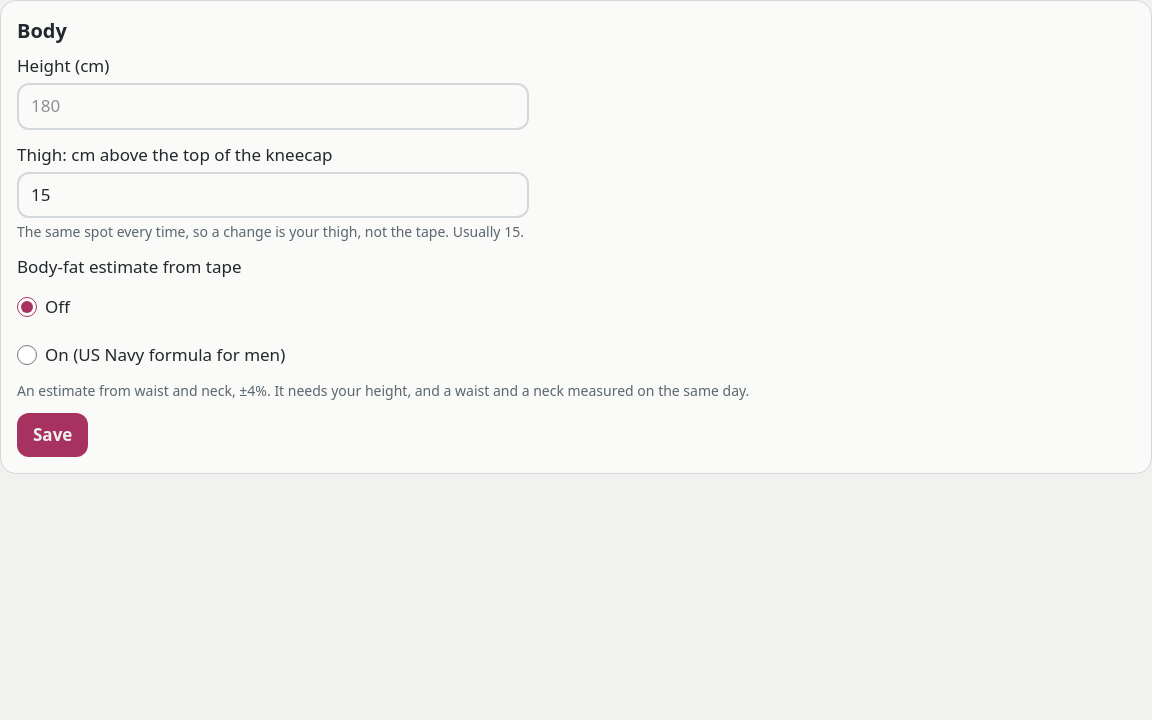
a refused save says why
Step 1. Click the button "Save" → (53, 435), box left=17, top=413, right=88, bottom=457
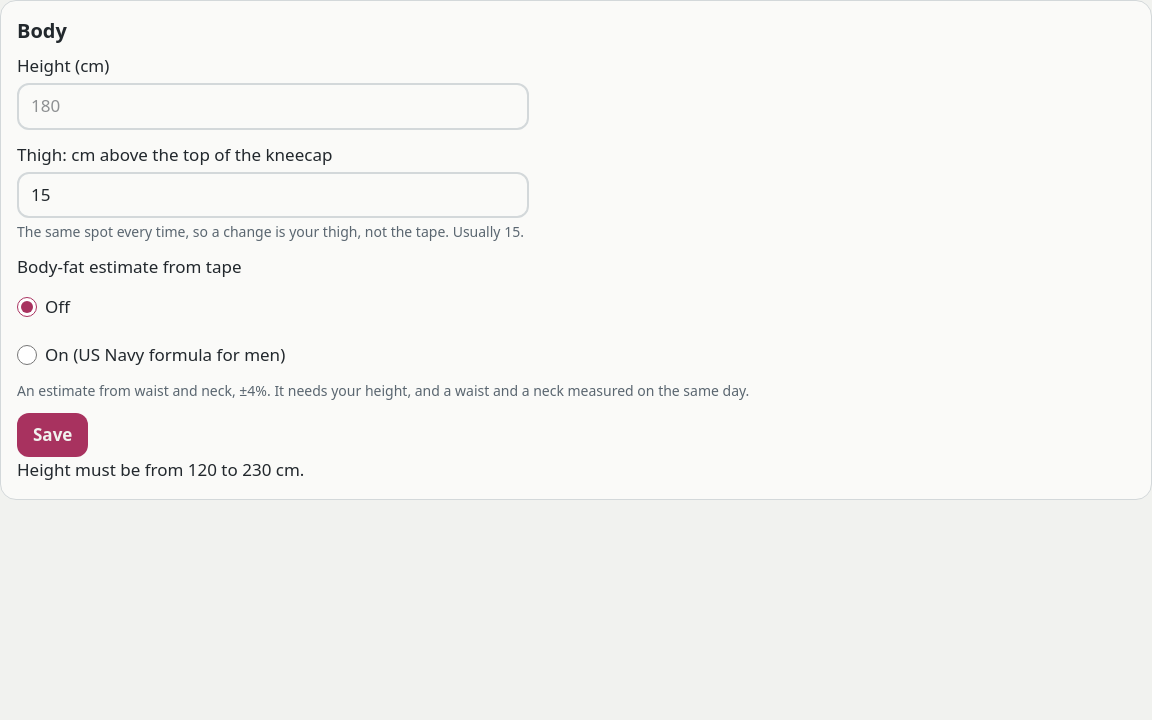
Check: the text "Height must be from 120 to 230 cm." is shown, box left=17, top=458, right=304, bottom=481
